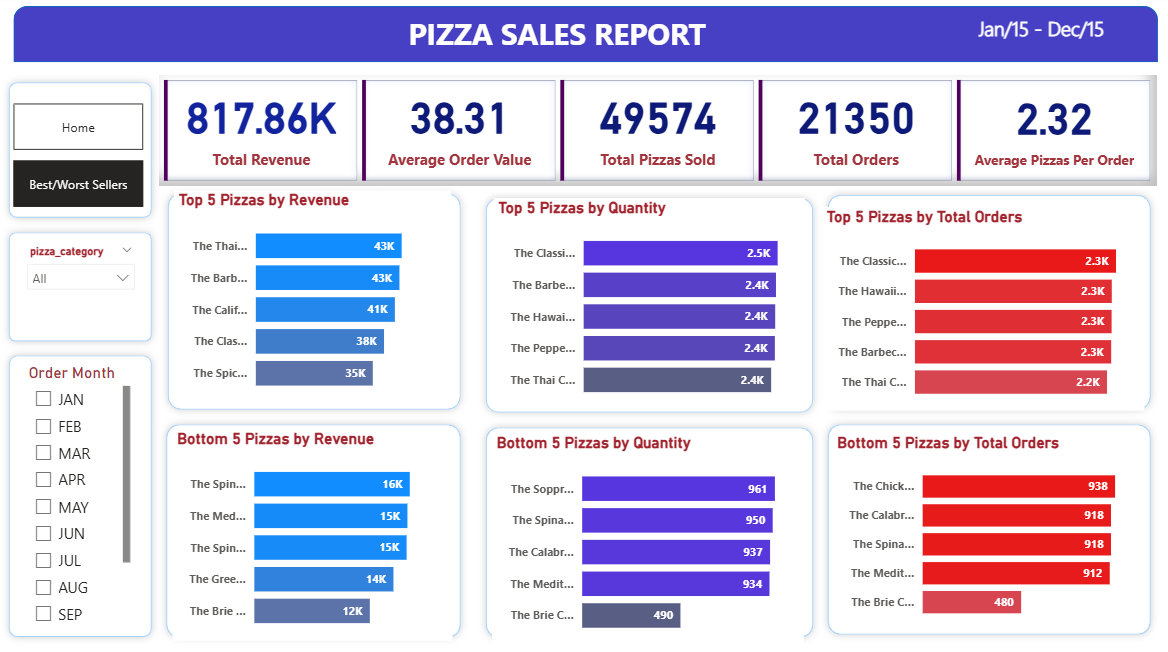

This screenshot's page, from the dashboard's own definition file:
{"tool":"powerbi","page":{"name":"Best/Worst Sellers","canvas":[1280,720],"ordinal":1},"visuals":[{"type":"shape","box":[20.3,12.2,1235.4,60.8],"z":0},{"type":"cardVisual","fields":{"Data":["public pizza_sales.Total Revenue","public pizza_sales.Average Order Value","public pizza_sales.Total Pizzas Sold","public pizza_sales.Total Orders","public pizza_sales.Average Pizzas Per Order"]},"box":[178.2,87.1,1077.5,119.5],"z":1000},{"type":"textbox","box":[441.5,14.2,449.6,52.7],"z":2000},{"type":"textbox","box":[1057.2,16.2,162,48.6],"z":3000},{"type":"shape","box":[179.7,207.3,331.9,249.4],"z":4000},{"type":"shape","box":[523,212.1,369.2,247.7],"z":5000},{"type":"shape","box":[178.1,456.6,333.6,246.1],"z":6000},{"type":"shape","box":[523,459.9,369.2,242.9],"z":7000},{"type":"shape","box":[892.2,456.6,364.3,242.9],"z":8000},{"type":"shape","box":[8.1,249.1,170.1,133.7],"z":9000},{"type":"shape","box":[8.1,382.8,170.1,320],"z":10000},{"type":"slicer","title":"Order Month","fields":{"Values":["public pizza_sales.Order Month"]},"box":[32.4,399,119.5,287.6],"z":11000},{"type":"slicer","fields":{"Values":["public pizza_sales.pizza_category"]},"box":[26.3,265.3,135.7,99.2],"z":12000},{"type":"shape","box":[8.1,87.1,170.1,162],"z":13000},{"type":"shape","box":[892.2,208.9,364.3,247.7],"z":14000},{"type":"barChart","title":"Top 5 Pizzas by Revenue","fields":{"Category":["public pizza_sales.pizza_name"],"Y":["public pizza_sales.Total Revenue"]},"box":[194.3,212.1,299.6,229.9],"z":15000},{"type":"barChart","title":"Bottom 5 Pizzas by Revenue","fields":{"Category":["public pizza_sales.pizza_name"],"Y":["public pizza_sales.Total Revenue"]},"box":[192.4,469.9,301.8,228.9],"z":16000},{"type":"barChart","title":"Top 5 Pizzas by Quantity","fields":{"Category":["public pizza_sales.pizza_name"],"Y":["public pizza_sales.Total Pizzas Sold"]},"box":[538.7,220.8,336.2,228.9],"z":17000},{"type":"barChart","title":"Bottom 5 Pizzas by Quantity","fields":{"Category":["public pizza_sales.pizza_name"],"Y":["public pizza_sales.Total Pizzas Sold"]},"box":[537.9,474.5,336.6,229],"z":18000},{"type":"barChart","title":"Top 5 Pizzas by Total Orders","fields":{"Category":["public pizza_sales.pizza_name"],"Y":["public pizza_sales.Total Orders"]},"box":[893.8,229.9,348.1,220.2],"z":19000},{"type":"barChart","title":"Bottom 5 Pizzas by Total Orders","fields":{"Category":["public pizza_sales.pizza_name"],"Y":["public pizza_sales.Total Orders"]},"box":[905.1,474.4,336.8,212.1],"z":20000},{"type":"pageNavigator","box":[21,118.2,140.9,50.2],"z":21000},{"type":"pageNavigator","box":[21,179.7,140.9,50.2],"z":22000}]}

Visuals, with their boxes in screenshot pixels (x1, y1, x2, y2), scaled from the page's 1280x720 canvas onto the 1168x652 screenshot:
shape: (x1=19, y1=11, x2=1146, y2=66)
cardVisual - public pizza_sales.Total Revenue x public pizza_sales.Average Order Value: (x1=163, y1=79, x2=1146, y2=187)
textbox: (x1=403, y1=13, x2=813, y2=61)
textbox: (x1=965, y1=15, x2=1113, y2=59)
shape: (x1=164, y1=188, x2=467, y2=414)
shape: (x1=477, y1=192, x2=814, y2=416)
shape: (x1=163, y1=413, x2=467, y2=636)
shape: (x1=477, y1=416, x2=814, y2=636)
shape: (x1=814, y1=413, x2=1147, y2=633)
shape: (x1=7, y1=226, x2=163, y2=347)
shape: (x1=7, y1=347, x2=163, y2=636)
"Order Month" slicer: (x1=30, y1=361, x2=139, y2=622)
slicer - public pizza_sales.pizza_category: (x1=24, y1=240, x2=148, y2=330)
shape: (x1=7, y1=79, x2=163, y2=226)
shape: (x1=814, y1=189, x2=1147, y2=413)
"Top 5 Pizzas by Revenue" barChart: (x1=177, y1=192, x2=451, y2=400)
"Bottom 5 Pizzas by Revenue" barChart: (x1=176, y1=426, x2=451, y2=633)
"Top 5 Pizzas by Quantity" barChart: (x1=492, y1=200, x2=798, y2=407)
"Bottom 5 Pizzas by Quantity" barChart: (x1=491, y1=430, x2=798, y2=637)
"Top 5 Pizzas by Total Orders" barChart: (x1=816, y1=208, x2=1133, y2=408)
"Bottom 5 Pizzas by Total Orders" barChart: (x1=826, y1=430, x2=1133, y2=622)
pageNavigator: (x1=19, y1=107, x2=148, y2=152)
pageNavigator: (x1=19, y1=163, x2=148, y2=208)
